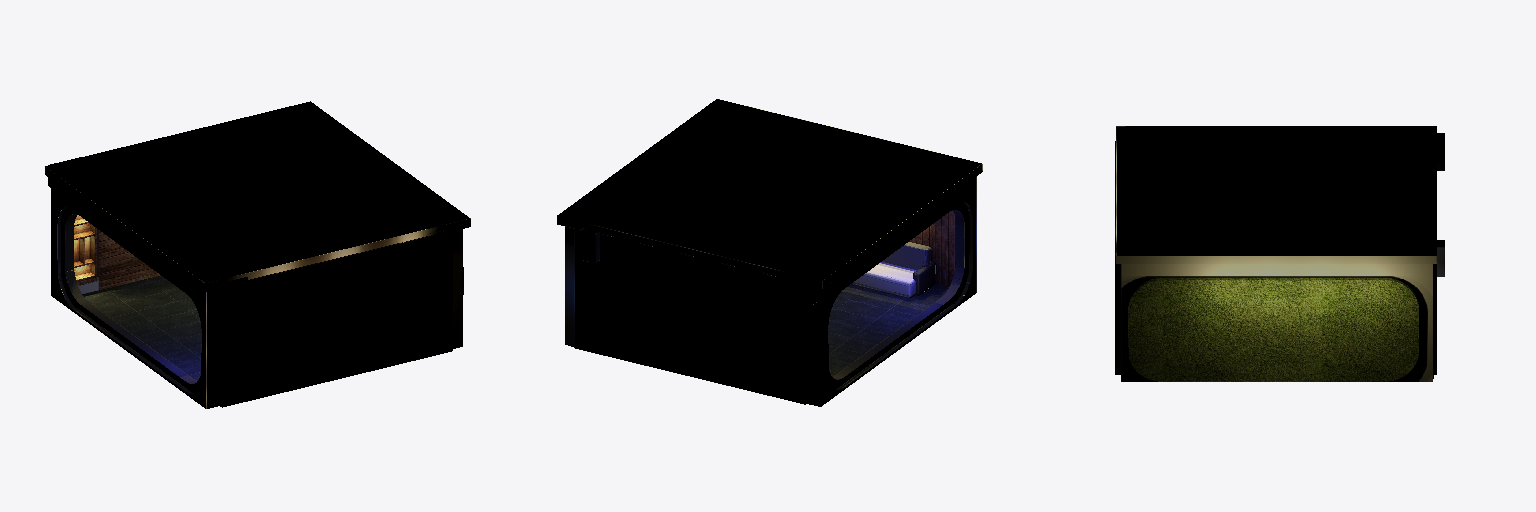
3 renders of one model, left to right at view 1: azimuth 30°, elevation 25°; view 2: azimuth 150°, elevation 25°; view 3: azimuth 270°, elevation 25°, orthographic.
Parts seen in each view (by area): view 1: Box008, Cylinder004, ChamferBox001; view 2: Box008, Box007, ChamferBox001, Cylinder004; view 3: Box008, ChamferBox001, Cylinder004, Box007.
Part boxes in pixels (bbox=[...]): Box008: bbox=[45, 101, 470, 408]; Cylinder004: bbox=[74, 215, 452, 407]; ChamferBox001: bbox=[82, 267, 463, 406]; Box008: bbox=[557, 99, 982, 406]; Box007: bbox=[574, 227, 817, 404]; ChamferBox001: bbox=[571, 262, 948, 404]; Cylinder004: bbox=[909, 211, 955, 286]; Box008: bbox=[1116, 126, 1444, 381]; ChamferBox001: bbox=[1128, 278, 1433, 381]; Cylinder004: bbox=[1115, 141, 1120, 374]; Box007: bbox=[1433, 133, 1444, 374].
Size of the model in its own units: 12.89 by 6.01 by 13.83.
Materials: 4 (4 with a texture image).